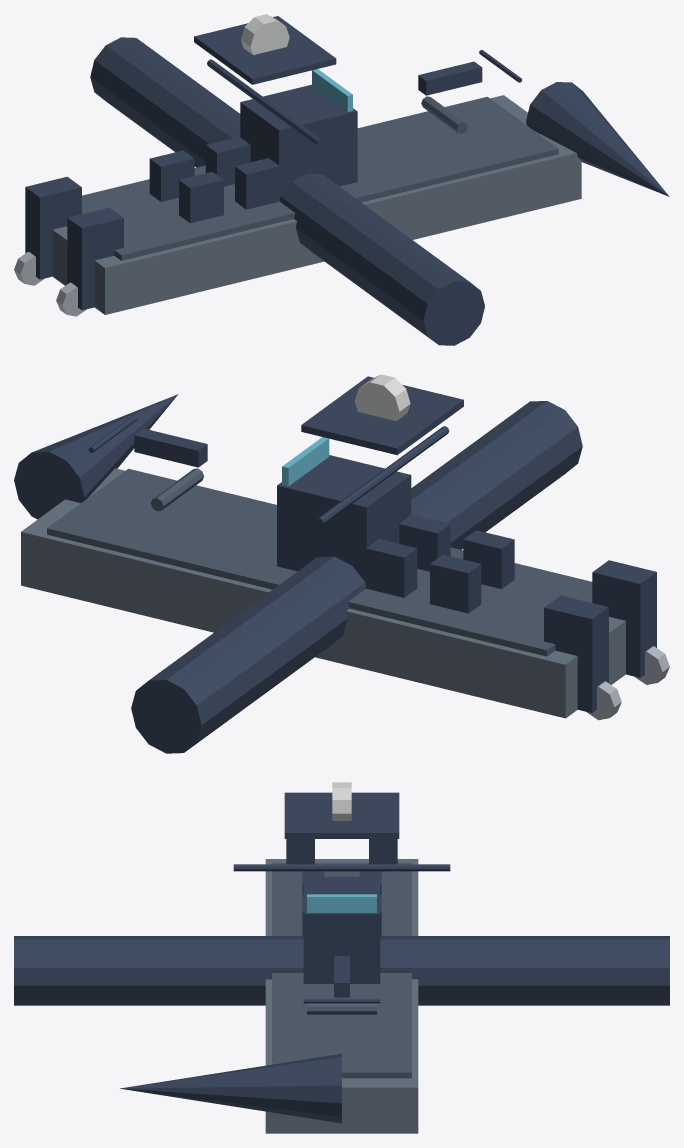
Rendered from tactical_rhib.glb.
3 views of the same model, one above another, from view 1: azimuth 30°, elevation 25°; view 2: azimuth 150°, elevation 25°; view 3: azimuth 270°, elevation 25° (orthographic). The views are drawn at different scales.
Parts seen in each view (by area): view 1: world; view 2: world; view 3: world.
Part boxes in pixels (x1=…): world: x1=14, y1=14, x2=669, y2=345; world: x1=14, y1=374, x2=669, y2=753; world: x1=14, y1=782, x2=669, y2=1133.
Size of the model in its own units: 9.8 by 3.88 by 10.3.
